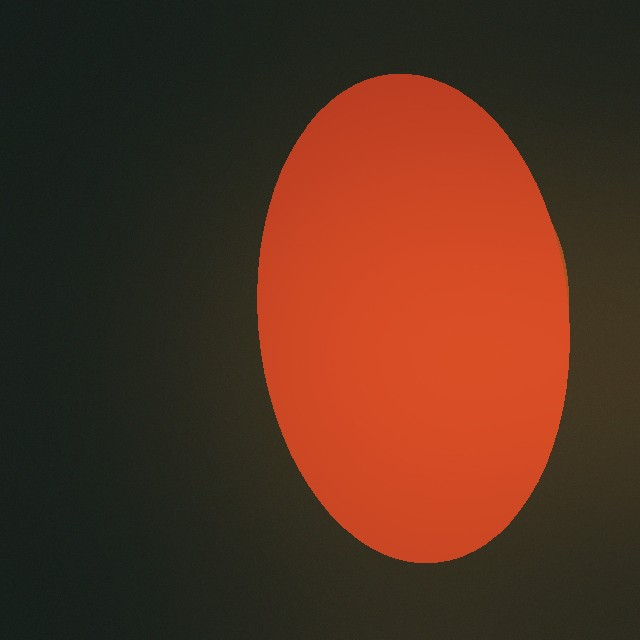fire: (271, 231, 585, 481)
